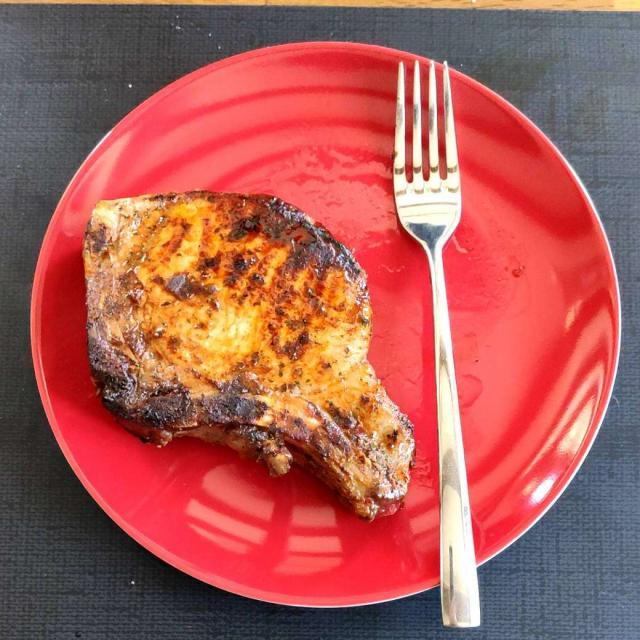pork-chop: (87, 198, 416, 517)
